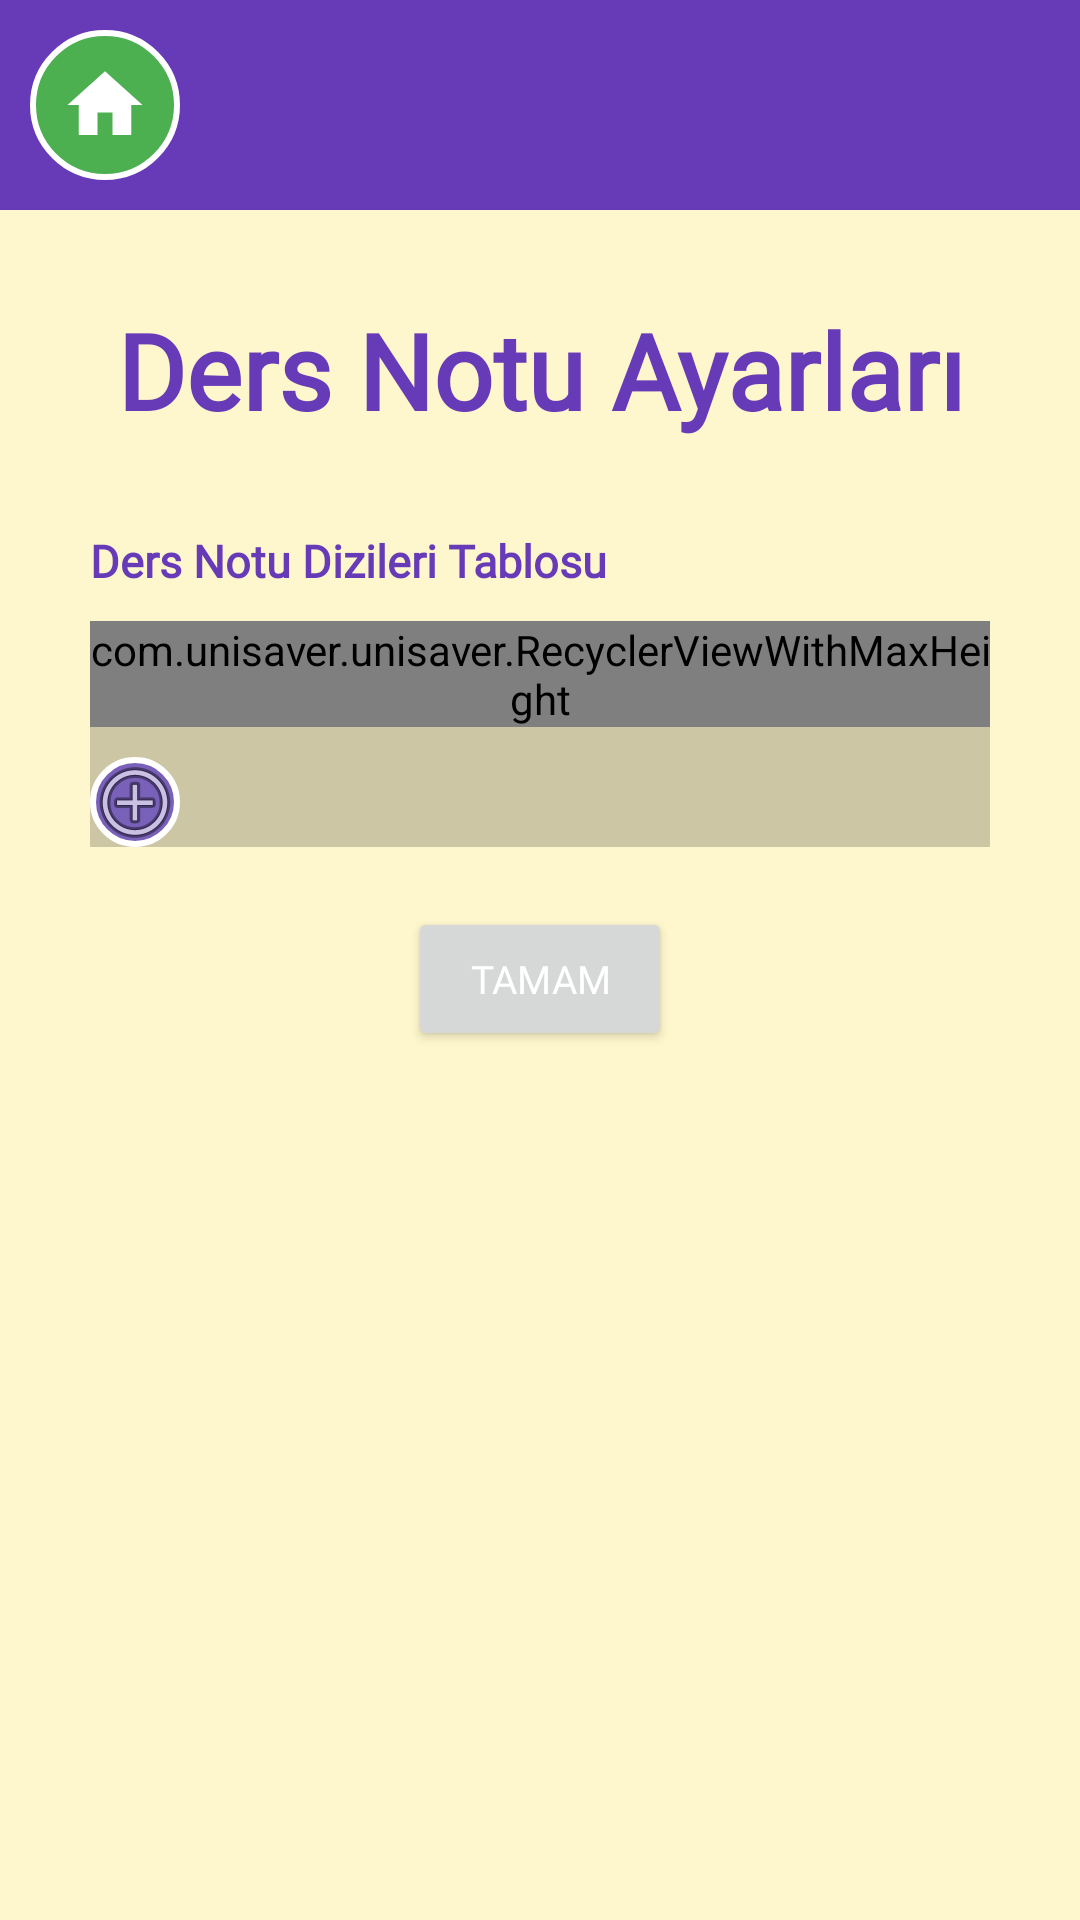

Point at icon controls on the screen. Image size 1080×1920, points as (x=x, y=y).
add: (x=135, y=802)
Ana Menüye Dönme Simgesi: (x=105, y=105)
